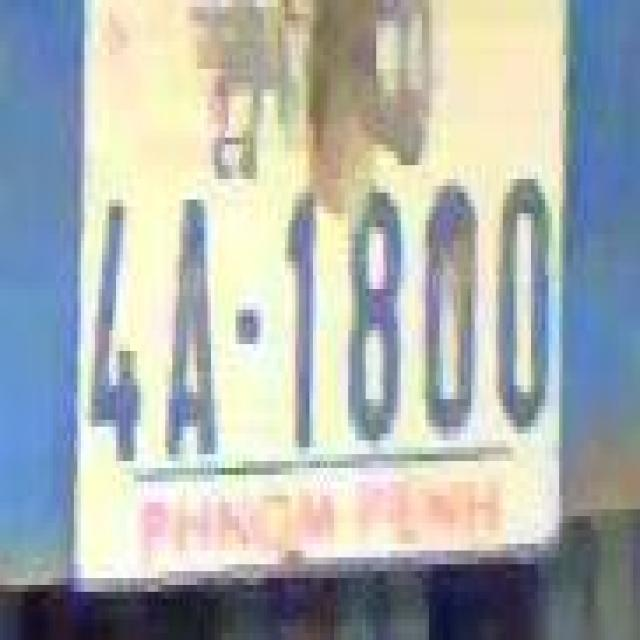Phnom_Penh: (207, 0, 442, 180)
